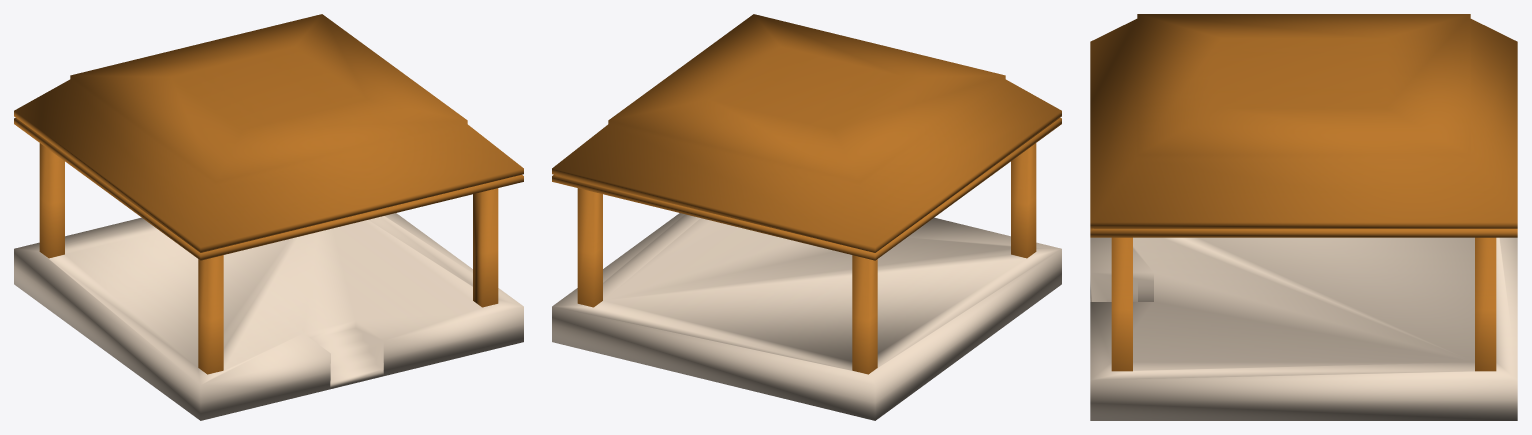
The model's file is shelter.obj.
3 renders of one model, left to right at view 1: azimuth 30°, elevation 25°; view 2: azimuth 150°, elevation 25°; view 3: azimuth 270°, elevation 25°, orthographic. The views are drawn at different scales.
Parts seen in each view (by area): view 1: Cube_Cube.003; view 2: Cube_Cube.003; view 3: Cube_Cube.003.
Boxes of the visible parts, box(x1,y1,x2,y2) form: Cube_Cube.003: box(14, 14, 523, 420); Cube_Cube.003: box(552, 14, 1061, 420); Cube_Cube.003: box(1090, 14, 1517, 420).
Size of the model in its own units: 2 by 1.33 by 2.
